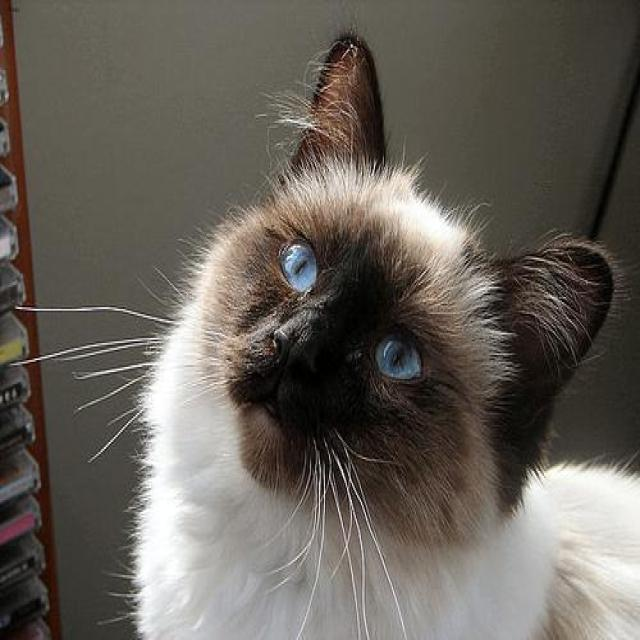cat: (132, 30, 640, 640)
